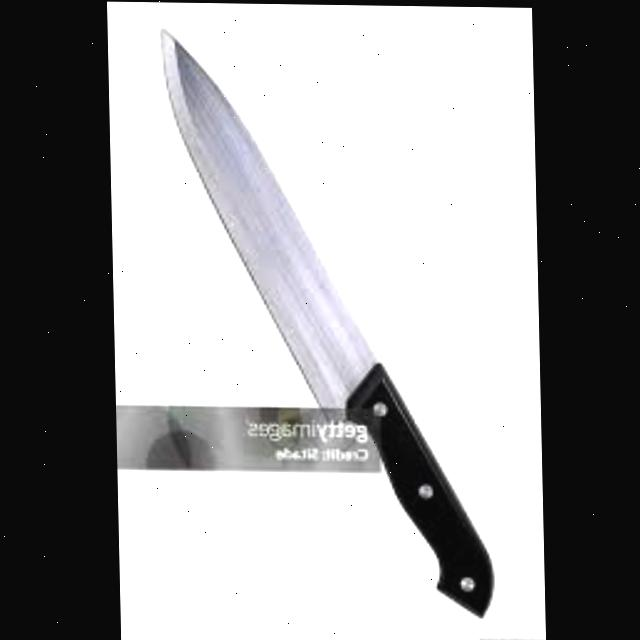Knife: (161, 23, 496, 614)
